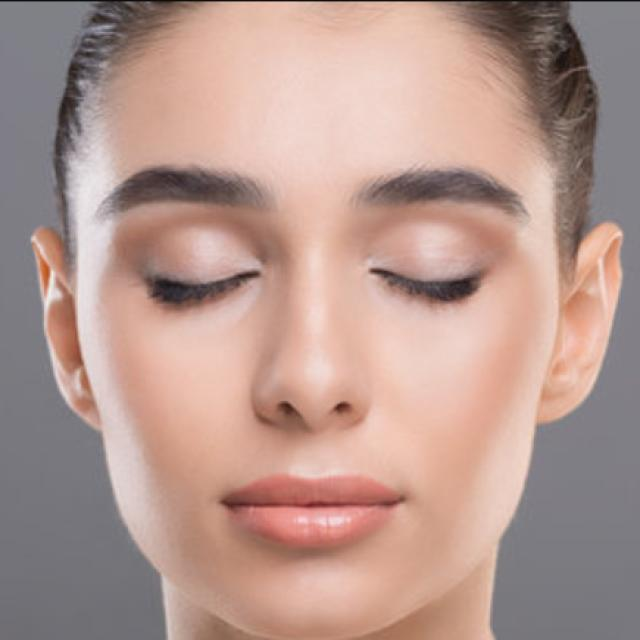close: (331, 164, 529, 332), (76, 155, 270, 321)
